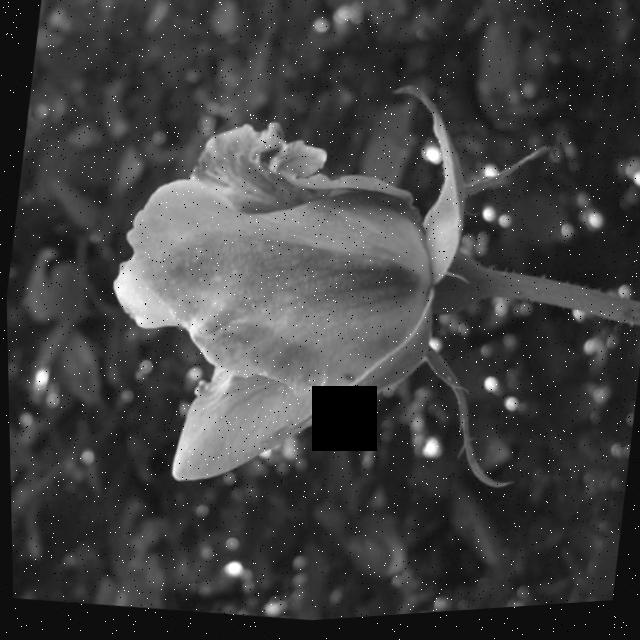rose: (51, 71, 490, 539)
